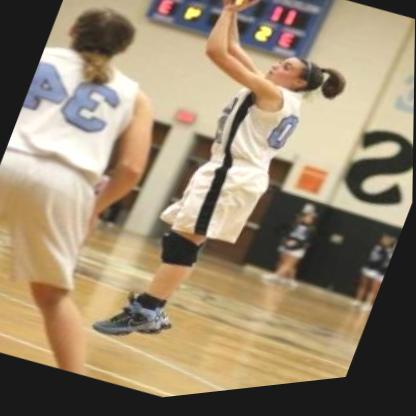basketball: (203, 0, 280, 24)
